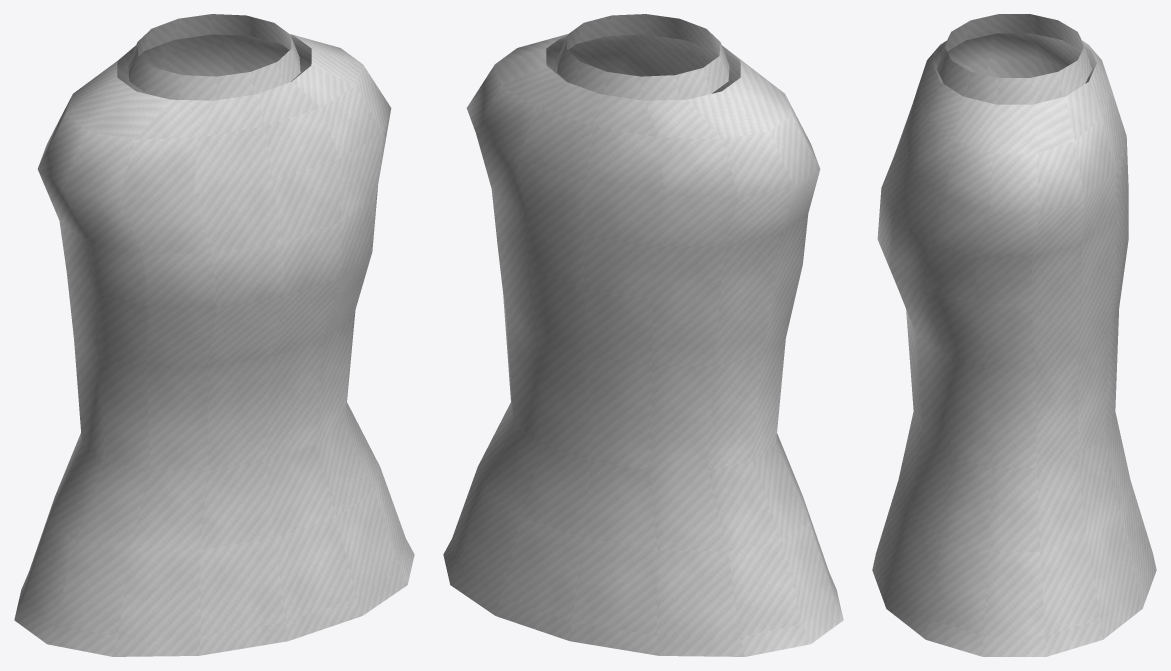
File: shirt_long_torso_f.glb
3 views of the same model, side by side, from view 1: azimuth 30°, elevation 25°; view 2: azimuth 150°, elevation 25°; view 3: azimuth 270°, elevation 25° (orthographic). The views are drawn at different scales.
Visible parts, largest first — view 1: shirt_long_torso_f; view 2: shirt_long_torso_f; view 3: shirt_long_torso_f.
Boxes of the visible parts, x1,y1,x2,y2 form: shirt_long_torso_f: (14, 14, 414, 656); shirt_long_torso_f: (443, 14, 843, 656); shirt_long_torso_f: (872, 14, 1156, 656).
Size of the model in its own units: 0.4329 by 0.61 by 0.3.
Materials: 1 (1 with a texture image).
